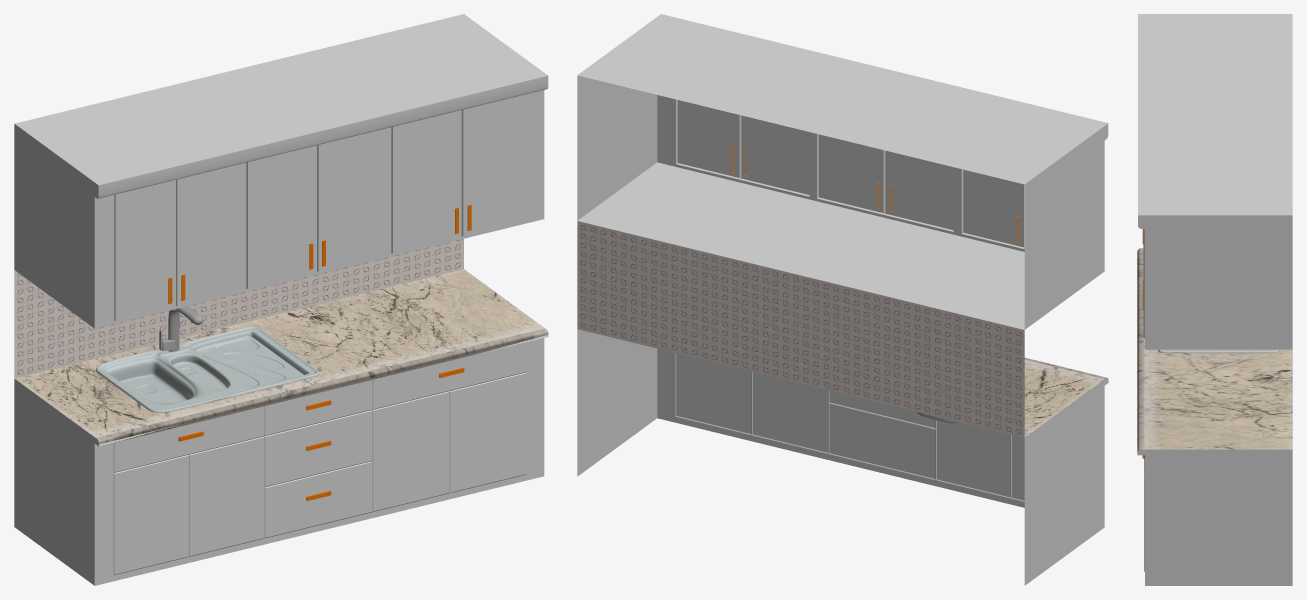
File: kitchen_cabinet.glb
The picture shows the model from 3 angles, left to right: view 1: azimuth 30°, elevation 25°; view 2: azimuth 150°, elevation 25°; view 3: azimuth 270°, elevation 25°; orthographic projection. The views are drawn at different scales.
Parts seen in each view (by area): view 1: Box001, Plane001, Box013; view 2: Box001; view 3: Box001, Plane001.
Part boxes in pixels (box(x1,y1,x2,y2)): Box001: box(14, 14, 548, 585); Plane001: box(95, 326, 319, 412); Box013: box(168, 306, 203, 351); Box001: box(577, 14, 1108, 585); Box001: box(1137, 14, 1292, 585); Plane001: box(1158, 349, 1279, 353).
Bounding box in the file's own units: 118 × 102 × 38.58.
Materials: 6 (2 with a texture image).
